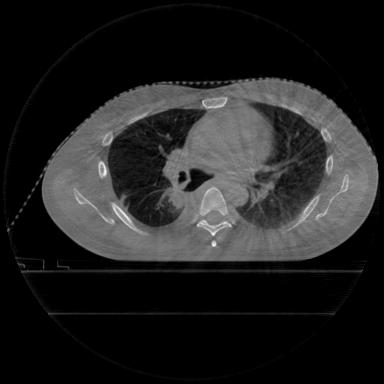body: (41, 78, 377, 261)
cord: (196, 187, 234, 246)
paru kanan: (108, 109, 204, 226)
paru kiri: (236, 103, 326, 228)
